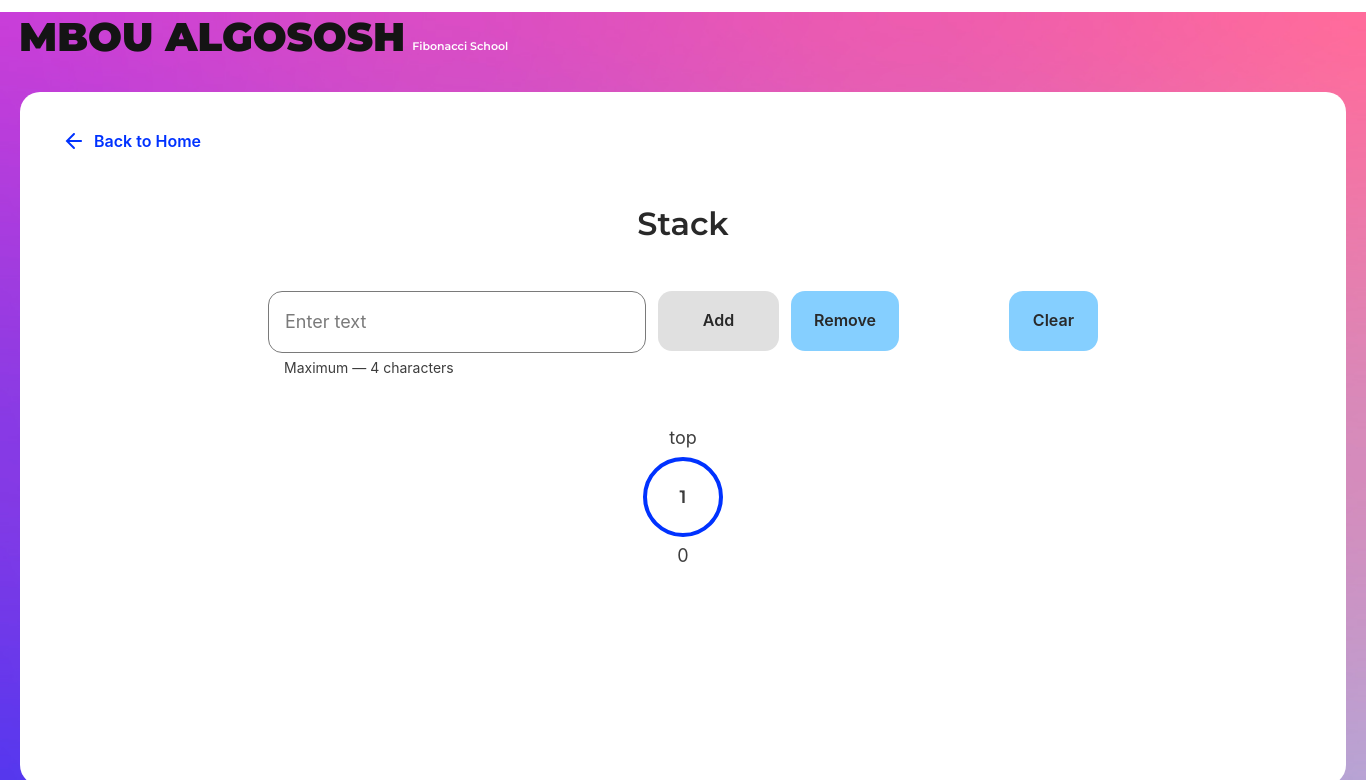
Test: Testing Stack Functionality › Adding the second element to the Stack works correctly
The image size is (1366, 780).
Type "2" into the field with test id "input" at (457, 322), box x1=268 y1=291 x2=646 y2=353
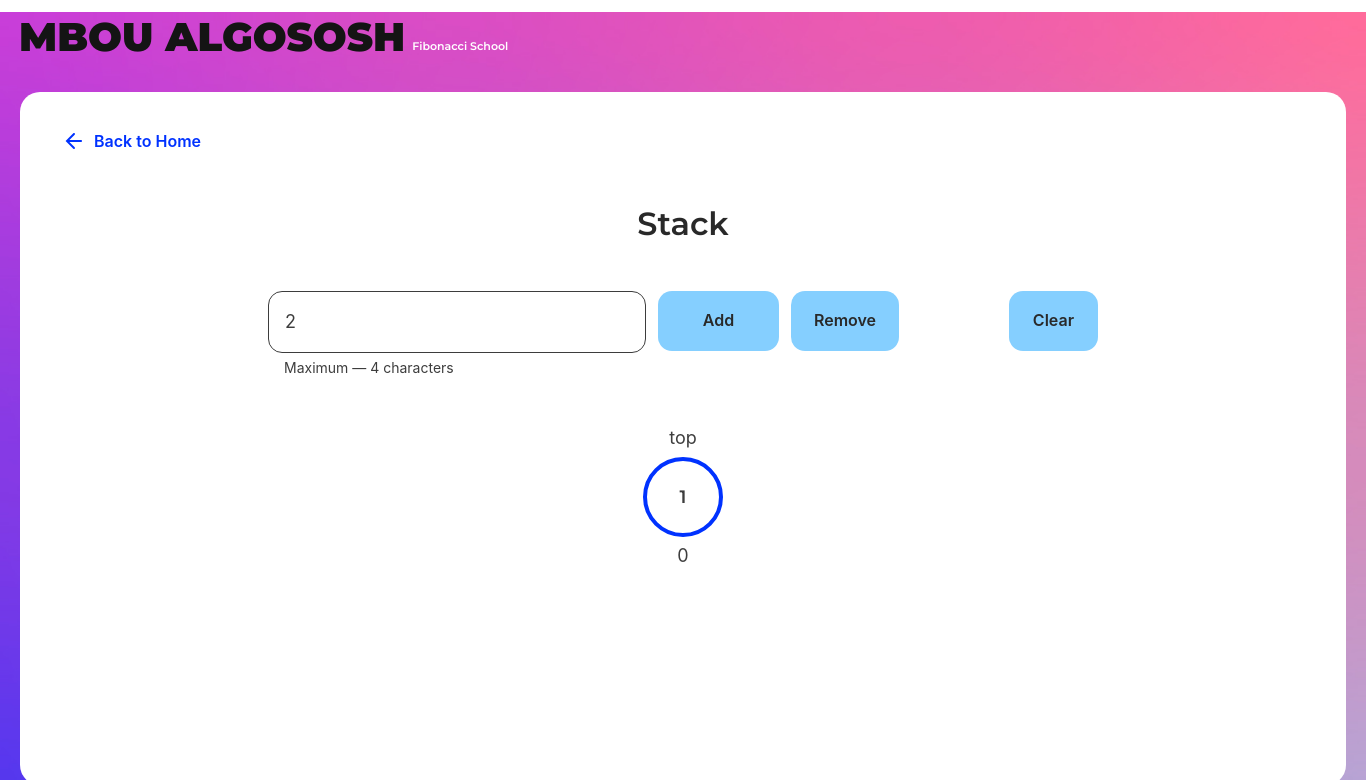
Click the button with test id "addBtn" at (719, 321), box x1=658 y1=291 x2=779 y2=351
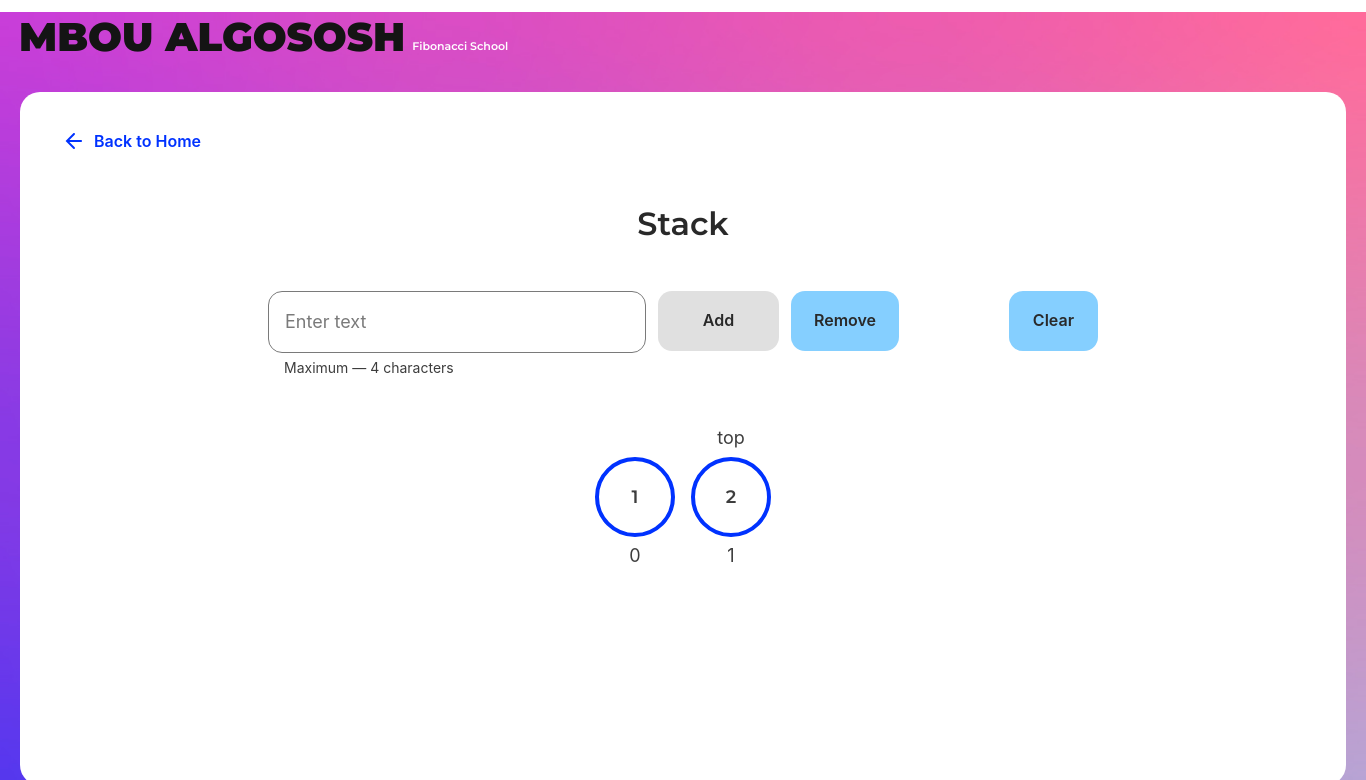
Check: the text with test id "index" reads "0", box x1=629 y1=545 x2=640 y2=566
Check: the text with test id "index" below "top" reads "1", box x1=727 y1=545 x2=734 y2=566
Check: the field with test id "input" is empty, box x1=268 y1=291 x2=646 y2=353
